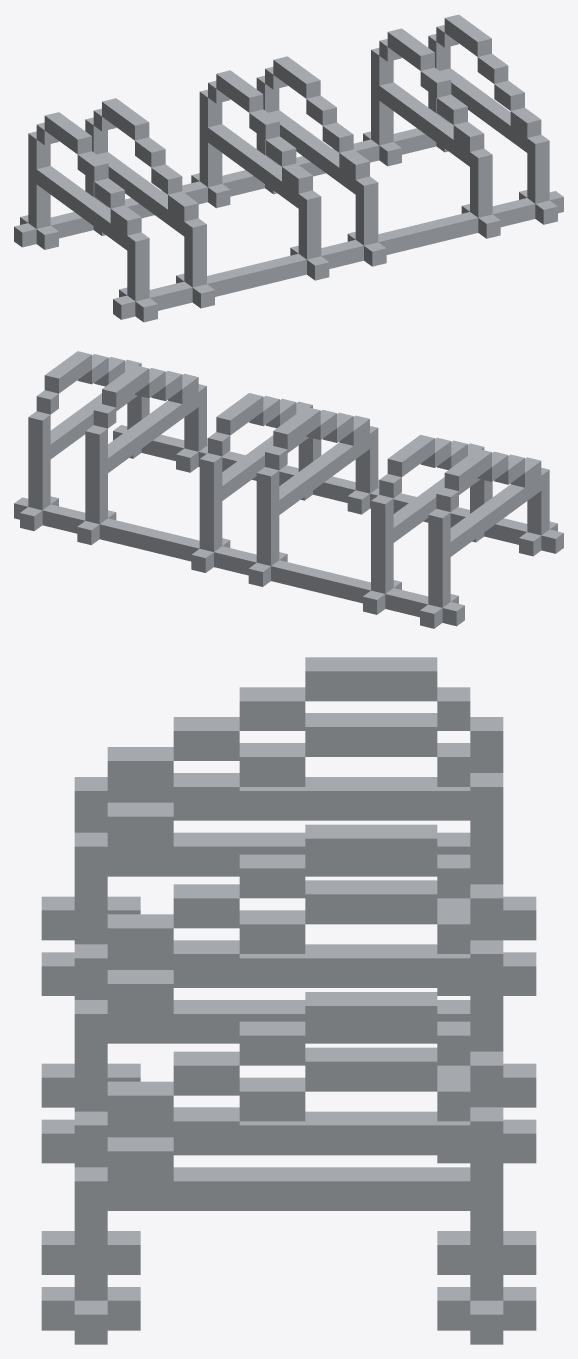
The model's file is Bike_Rack_01.glb.
3 renders of one model, top to bottom at view 1: azimuth 30°, elevation 25°; view 2: azimuth 150°, elevation 25°; view 3: azimuth 270°, elevation 25°, orthographic. The views are drawn at different scales.
Parts seen in each view (by area): view 1: Bike_Rack_01; view 2: Bike_Rack_01; view 3: Bike_Rack_01.
Part boxes in pixels (x1,y1,x2,y2): Bike_Rack_01: (14, 14, 563, 322); Bike_Rack_01: (14, 351, 563, 628); Bike_Rack_01: (41, 657, 536, 1344).
Size of the model in its own units: 3.1 by 0.9 by 1.5.
Materials: 1 (1 with a texture image).
